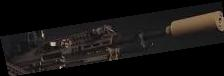gun: (0, 1, 224, 76)
